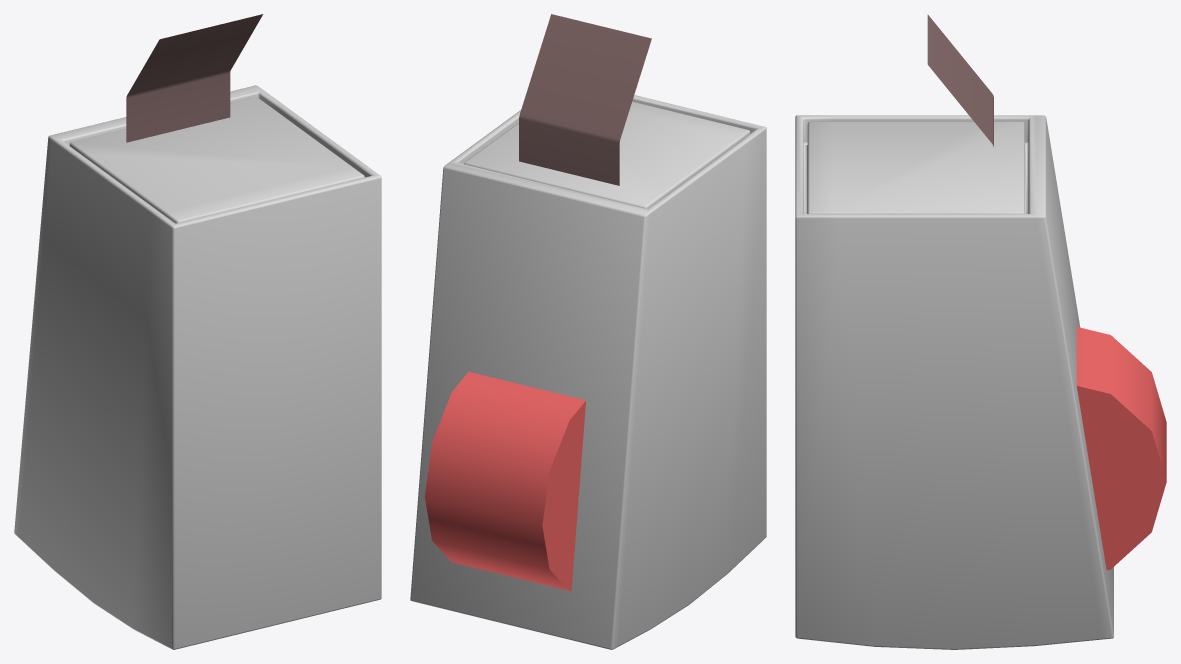
The picture shows the model from 3 angles, left to right: view 1: azimuth 30°, elevation 25°; view 2: azimuth 150°, elevation 25°; view 3: azimuth 270°, elevation 25°; orthographic projection. The views are drawn at different scales.
Parts seen in each view (by area): view 1: Cube; view 2: Cube; view 3: Cube.
Part boxes in pixels (x1,y1,x2,y2): Cube: (14, 14, 381, 649); Cube: (410, 14, 766, 649); Cube: (795, 14, 1166, 649).
Size of the model in its own units: 13.61 by 34.87 by 20.95.
